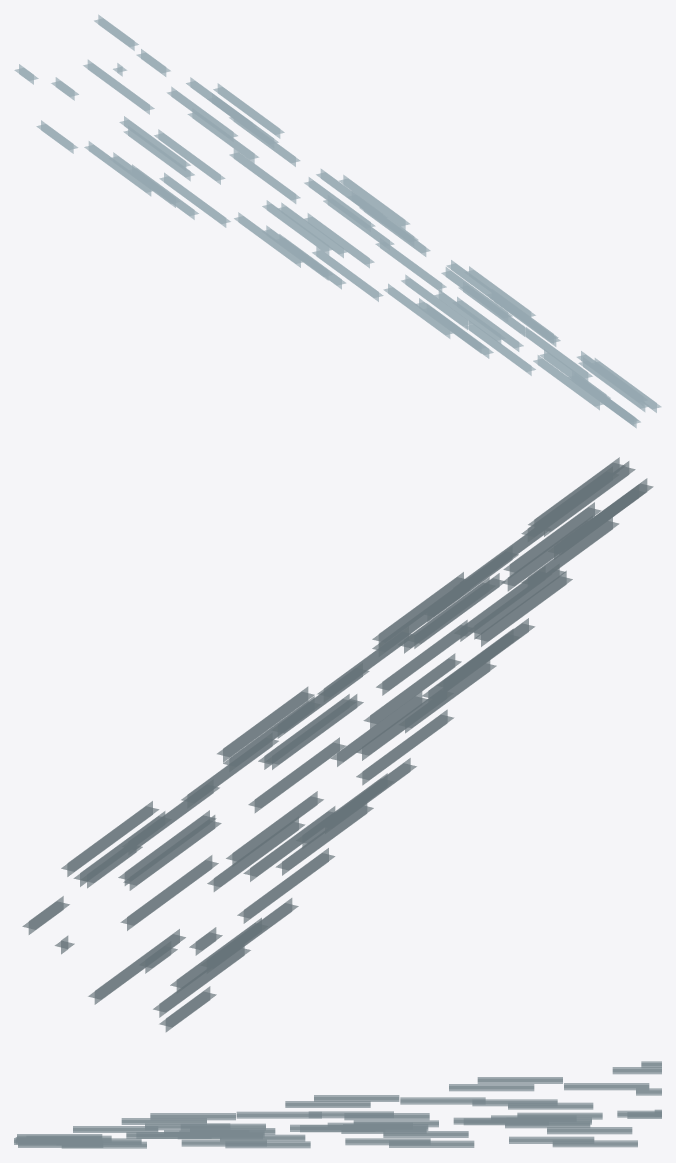
Rendered from wp_water_319.obj.
3 renders of one model, top to bottom at view 1: azimuth 30°, elevation 25°; view 2: azimuth 150°, elevation 25°; view 3: azimuth 270°, elevation 25°, orthographic. The views are drawn at different scales.
Bounding box in the file's own units: 0.3855 × 0.2544 × 1.82.
Materials: 1 (1 with a texture image).
